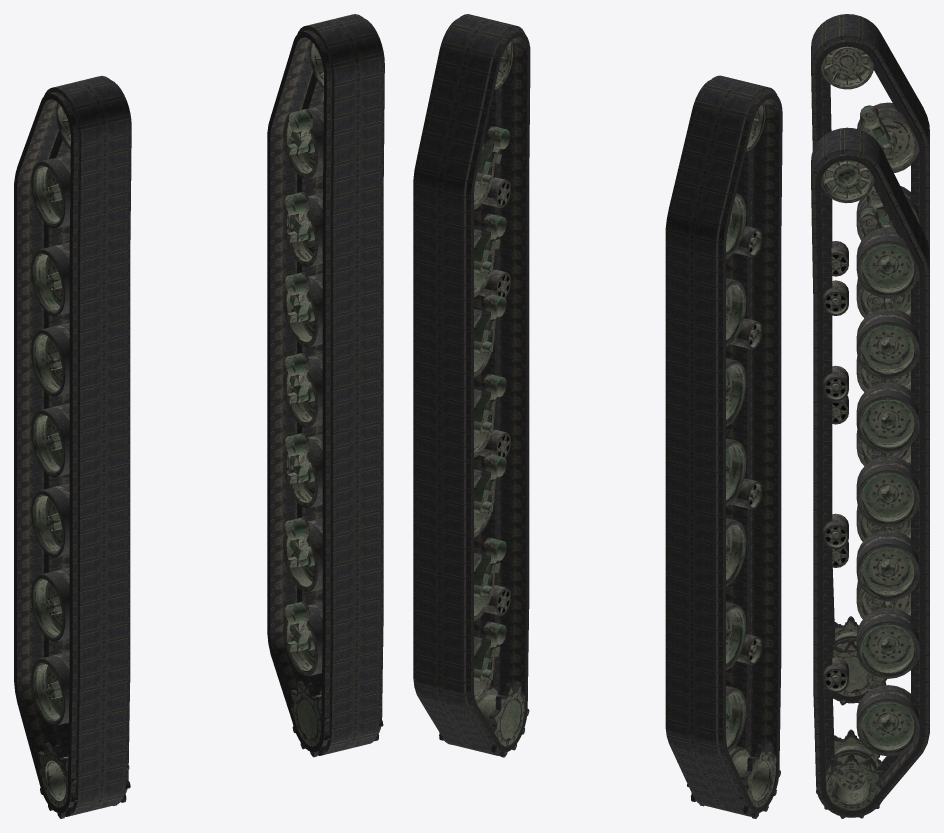
Rendered from Chassis.glb.
3 renders of one model, left to right at view 1: azimuth 30°, elevation 25°; view 2: azimuth 150°, elevation 25°; view 3: azimuth 270°, elevation 25°, orthographic. The views are drawn at different scales.
Visible parts, largest first — view 1: set_0_group_0, set_1_group_0, set_3_group_0, set_2_group_0; view 2: set_0_group_0, set_1_group_0, set_3_group_0, set_2_group_0; view 3: set_3_group_0, set_1_group_0, set_2_group_0, set_0_group_0.
Part boxes in pixels (box(x1,y1,x2,y2)): set_0_group_0: box(14, 76, 131, 816); set_1_group_0: box(267, 14, 384, 755); set_3_group_0: box(283, 41, 383, 757); set_2_group_0: box(31, 103, 130, 818); set_0_group_0: box(665, 75, 782, 816); set_1_group_0: box(413, 14, 530, 755); set_3_group_0: box(439, 41, 529, 757); set_2_group_0: box(687, 102, 780, 818); set_3_group_0: box(816, 160, 919, 818); set_1_group_0: box(811, 127, 929, 817); set_2_group_0: box(821, 46, 919, 705); set_0_group_0: box(811, 14, 929, 703).
Size of the model in its own units: 3.4 by 7.59 by 1.22.
Materials: 4 (4 with a texture image).
